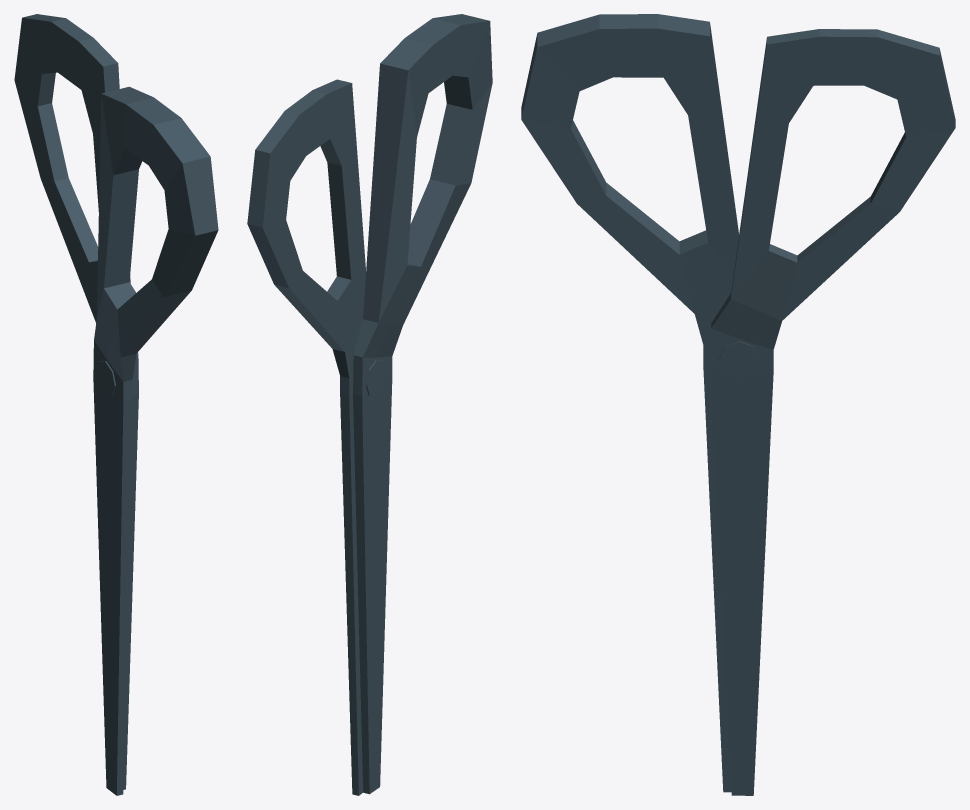
The model's file is scissors.glb.
3 renders of one model, left to right at view 1: azimuth 30°, elevation 25°; view 2: azimuth 150°, elevation 25°; view 3: azimuth 270°, elevation 25°, orthographic. The views are drawn at different scales.
Parts seen in each view (by area): view 1: Scissors_Cube.041; view 2: Scissors_Cube.041; view 3: Scissors_Cube.041.
Part boxes in pixels (x1,y1,x2,y2): Scissors_Cube.041: (14,14,218,795); Scissors_Cube.041: (247,14,492,795); Scissors_Cube.041: (521,14,955,795).
Size of the model in its own units: 0.6405 by 9.97 by 5.14.
